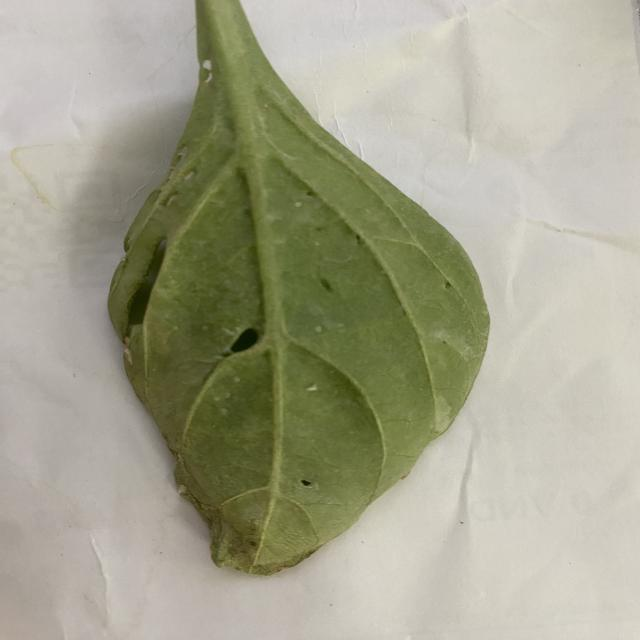Leaf: (104, 45, 489, 577)
